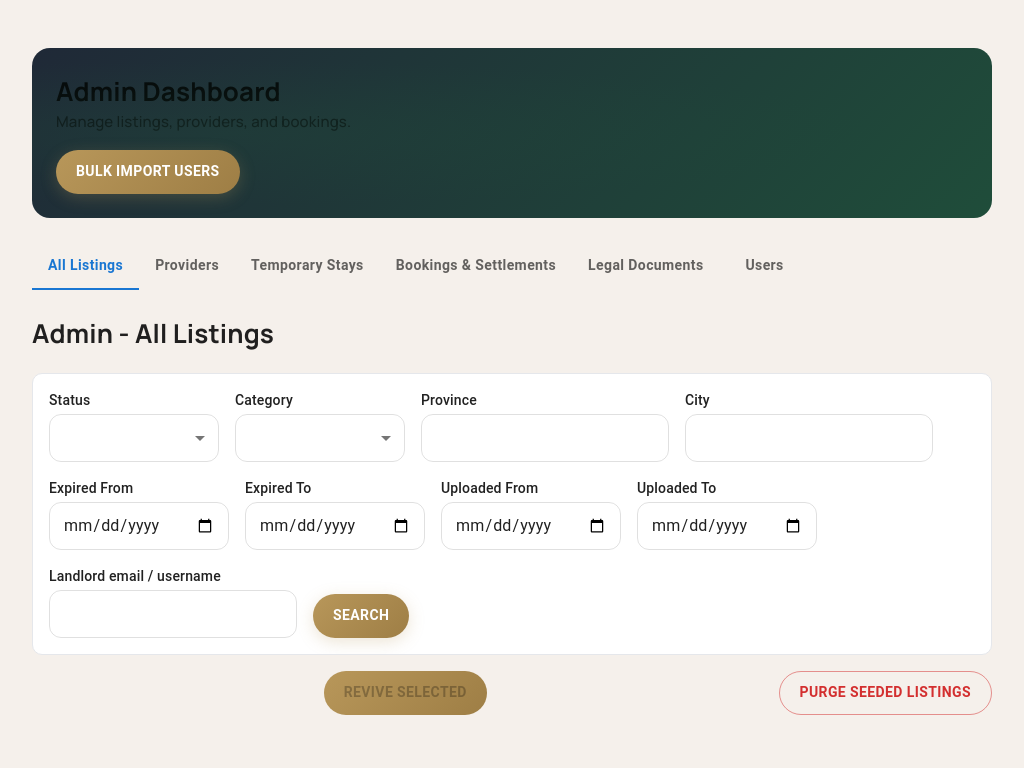
Test case: Admin Dashboard - Users Tab › displays invitations table with correct columns
Click the tab "Users": (765, 266) [720, 242, 810, 290]
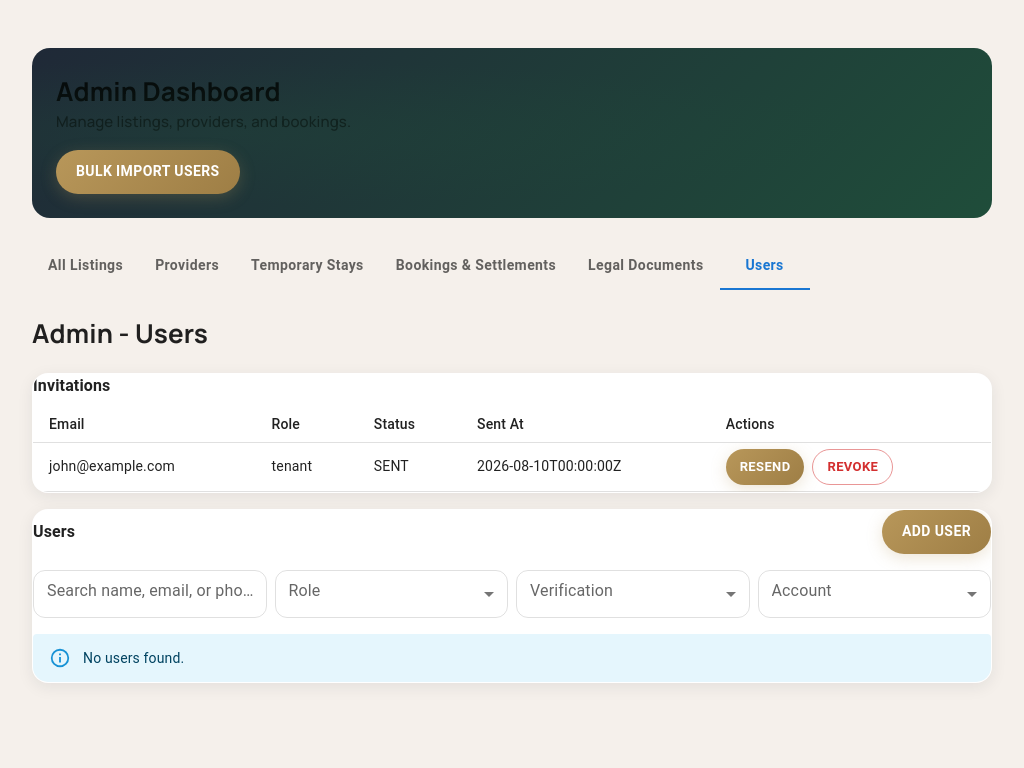
Now the text "john@example.com" is shown, box [33, 442, 256, 492]
Now the text "tenant" is shown, box [256, 442, 358, 492]
Now the text "SENT" is shown, box [358, 442, 461, 492]
